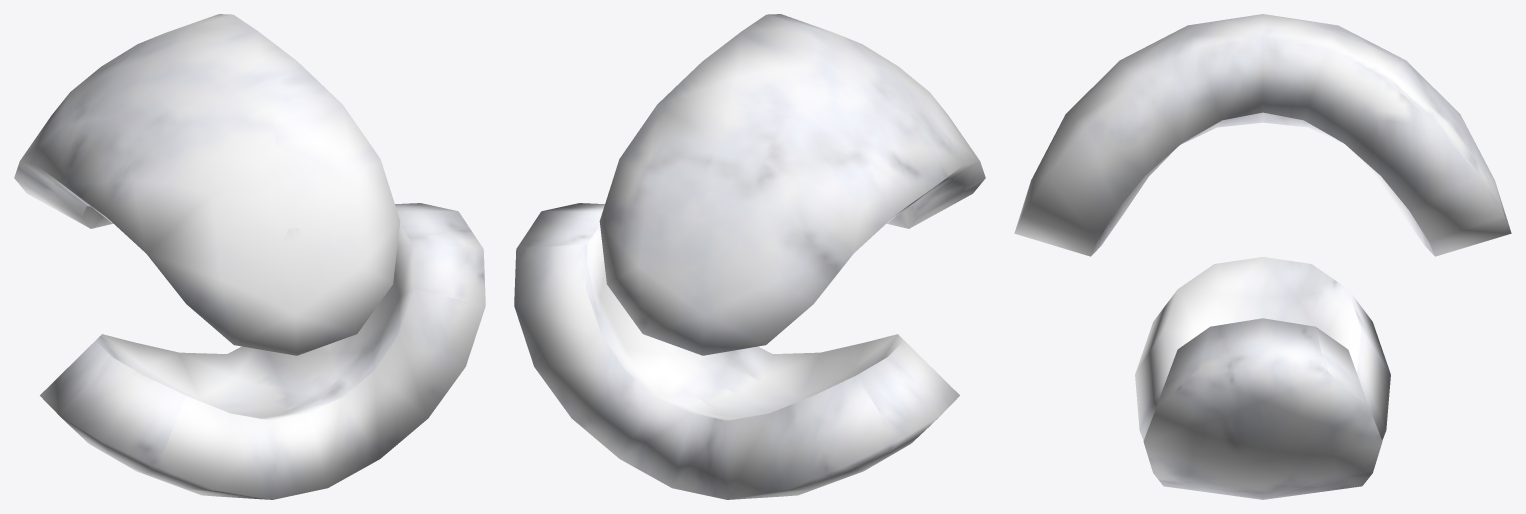
Rendered from EnergyBall_Shell.fbx.
The picture shows the model from 3 angles, left to right: view 1: azimuth 30°, elevation 25°; view 2: azimuth 150°, elevation 25°; view 3: azimuth 270°, elevation 25°; orthographic projection.
Parts seen in each view (by area): view 1: EnergyBall_Shell; view 2: EnergyBall_Shell; view 3: EnergyBall_Shell.
Boxes of the visible parts, <box> form: EnergyBall_Shell: <box>14,14,485,499</box>; EnergyBall_Shell: <box>514,14,985,499</box>; EnergyBall_Shell: <box>1014,14,1511,499</box>.
Size of the model in its own units: 17.46 by 18.58 by 18.64.
